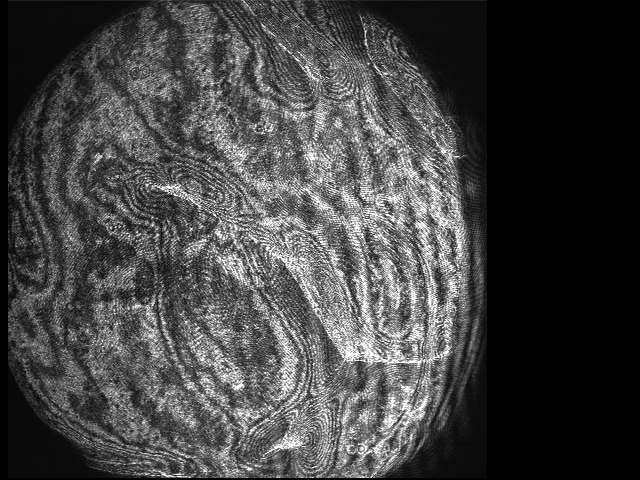plume: (115, 155, 245, 234)
